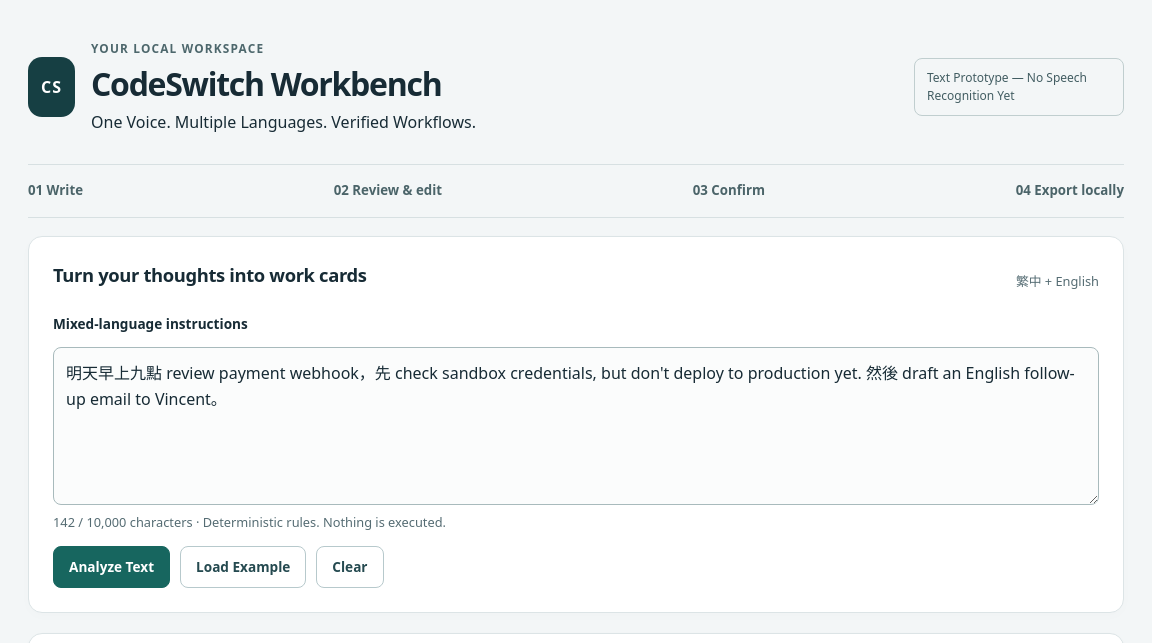
Test: edits record user provenance without changing the original evidence
Click the button "Analyze Text" at (112, 567), box [53,546,170,588]
(page scrolled)
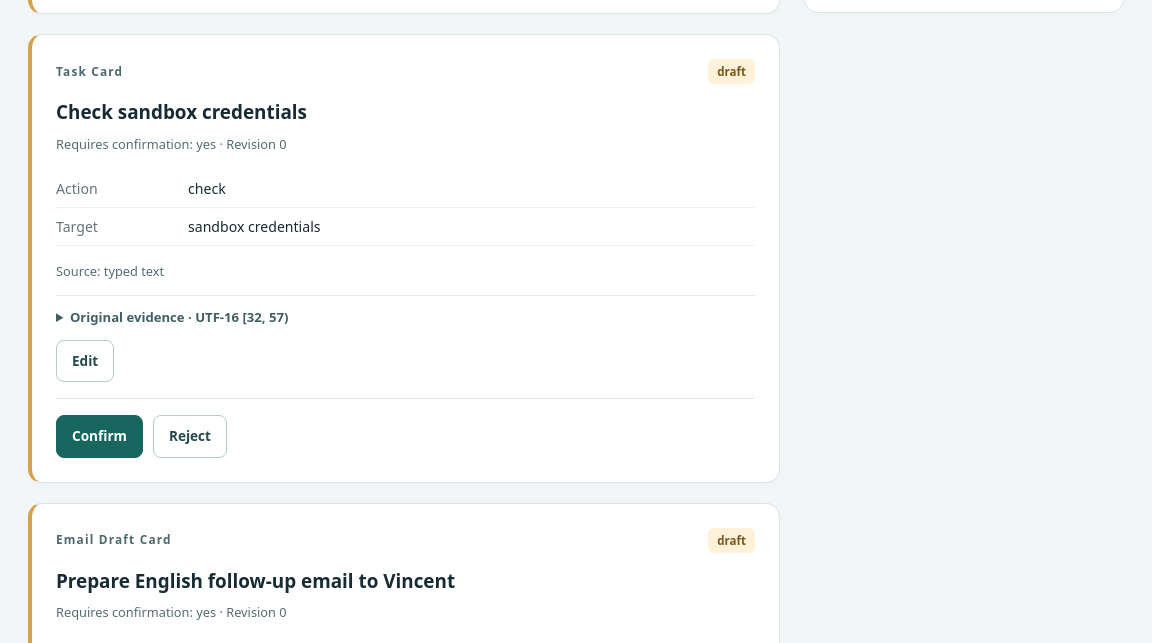
Click the button "Edit" at (85, 361), box [56,340,114,382]
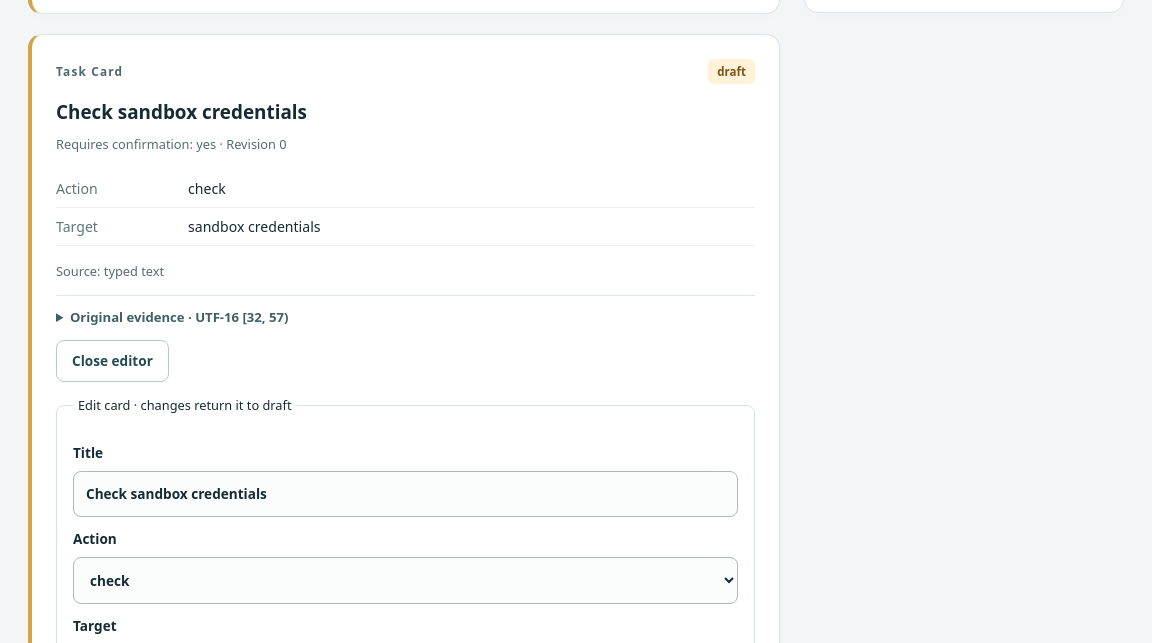
Replace the text in the field labelled "Title" with "Check sandbox" at (406, 494), box [73,471,738,517]
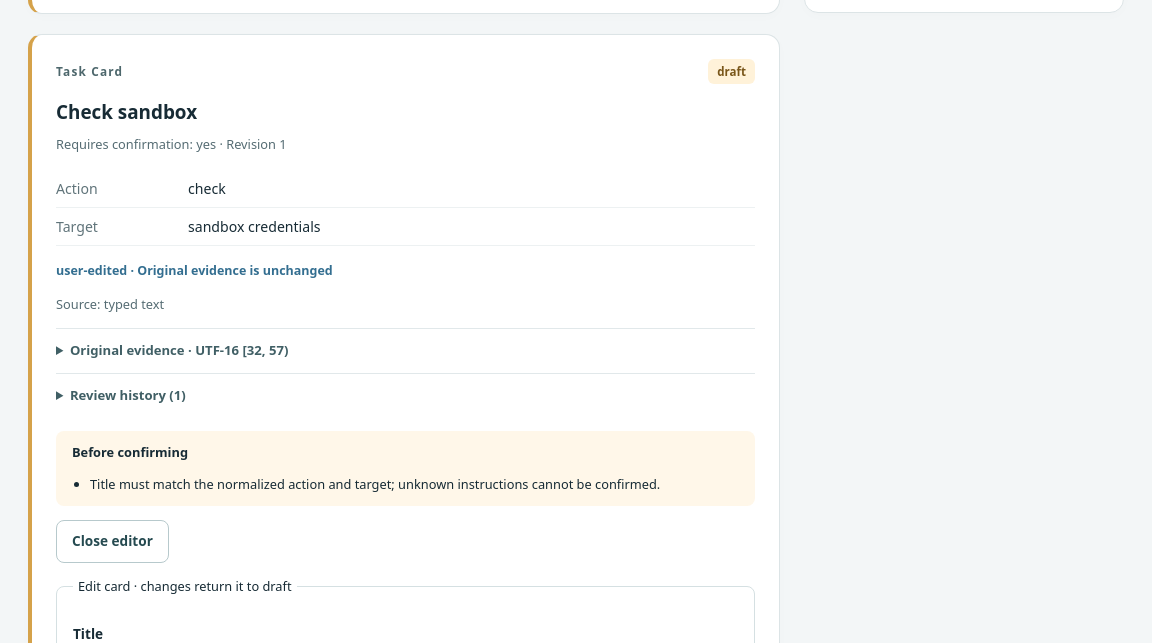
Check: the heading "Check sandbox" is shown, box [56,99,197,125]
Check: the text "user-edited · Original evidence is unchanged" is shown, box [56,262,333,279]
